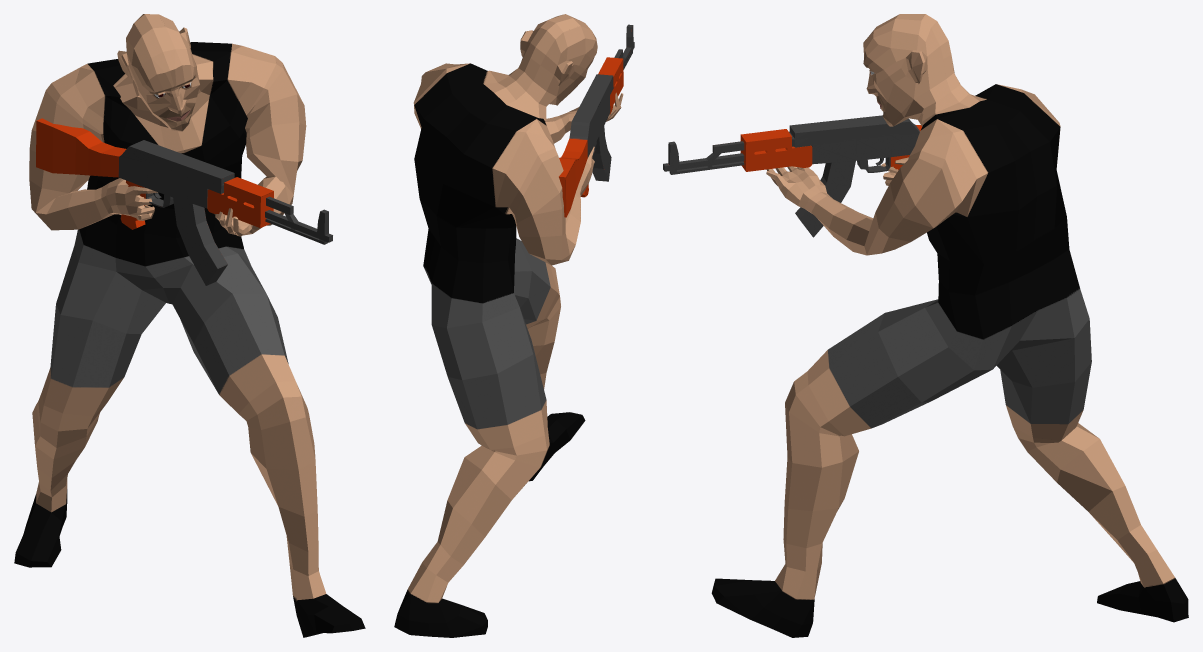
The model's file is PlayerWalk(5).obj.
3 views of the same model, side by side, from view 1: azimuth 30°, elevation 25°; view 2: azimuth 150°, elevation 25°; view 3: azimuth 270°, elevation 25° (orthographic). The views are drawn at different scales.
Visible parts, largest first — view 1: Plane002, Object001; view 2: Plane002, Object001; view 3: Plane002, Object001.
Part boxes in pixels (x1=…): Plane002: x1=14, y1=14, x2=365, y2=637; Object001: x1=36, y1=118, x2=332, y2=285; Plane002: x1=394, y1=14, x2=623, y2=637; Object001: x1=559, y1=24, x2=634, y2=217; Plane002: x1=711, y1=14, x2=1188, y2=637; Object001: x1=663, y1=115, x2=921, y2=237.
Bounding box in the file's own units: 579 × 1585 × 1273.
